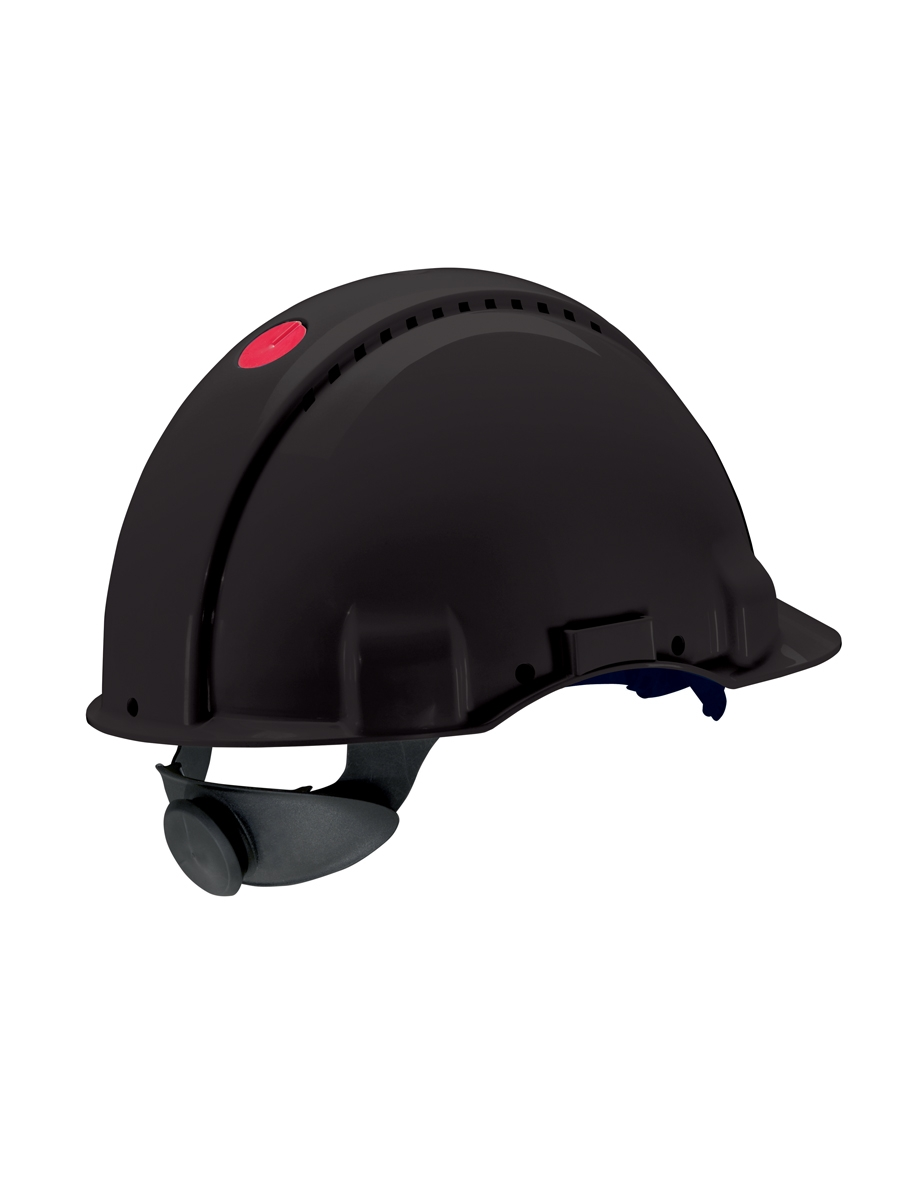baret: (68, 258, 849, 903)
